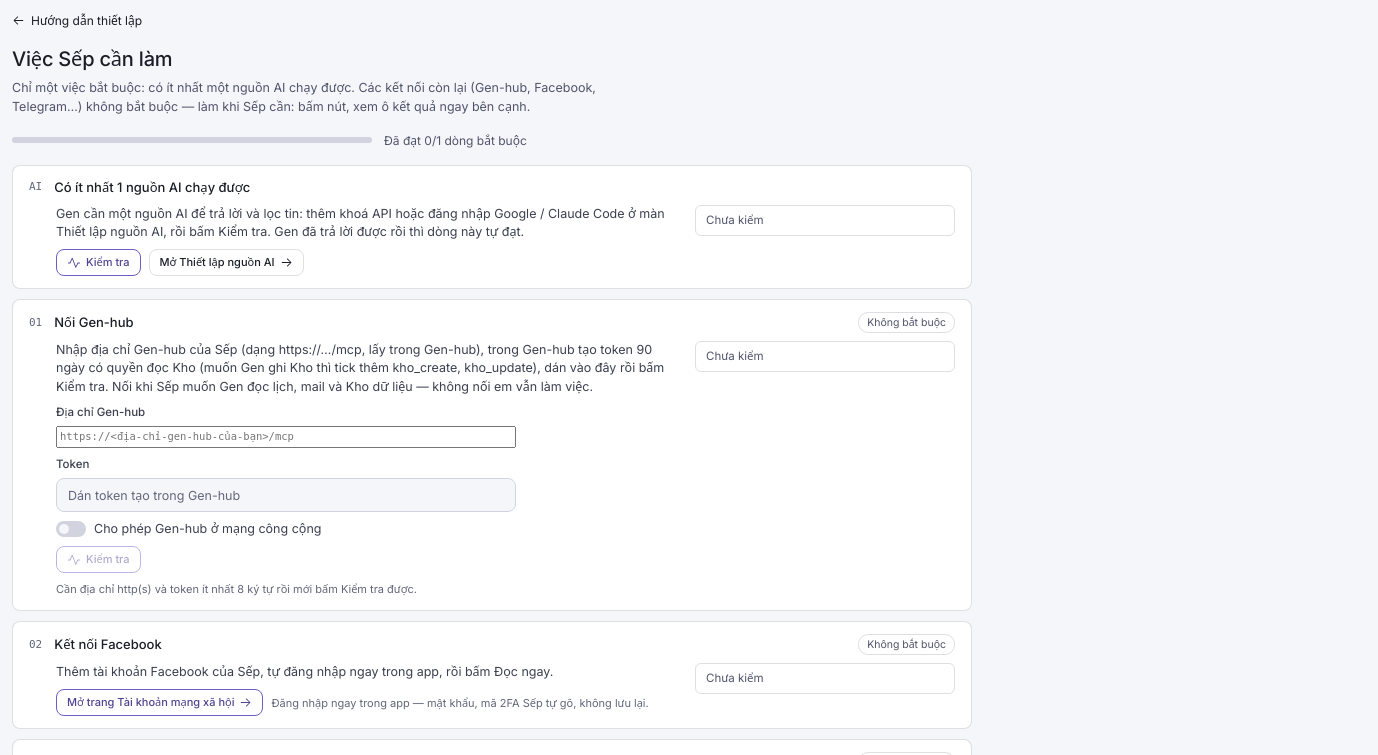
Test case: Việc Sếp cần làm — chỉ dòng "nguồn AI" bắt buộc (x/N động) › lỗi AI_NO_SOURCE ⇒ câu thân thiện + "Chi tiết kỹ thuật" có mã lỗi, không render object
Step 1. Click the button "Kiểm tra" next to "Mở Thiết lập nguồn AI" → click(98, 263), box [56,249,141,276]
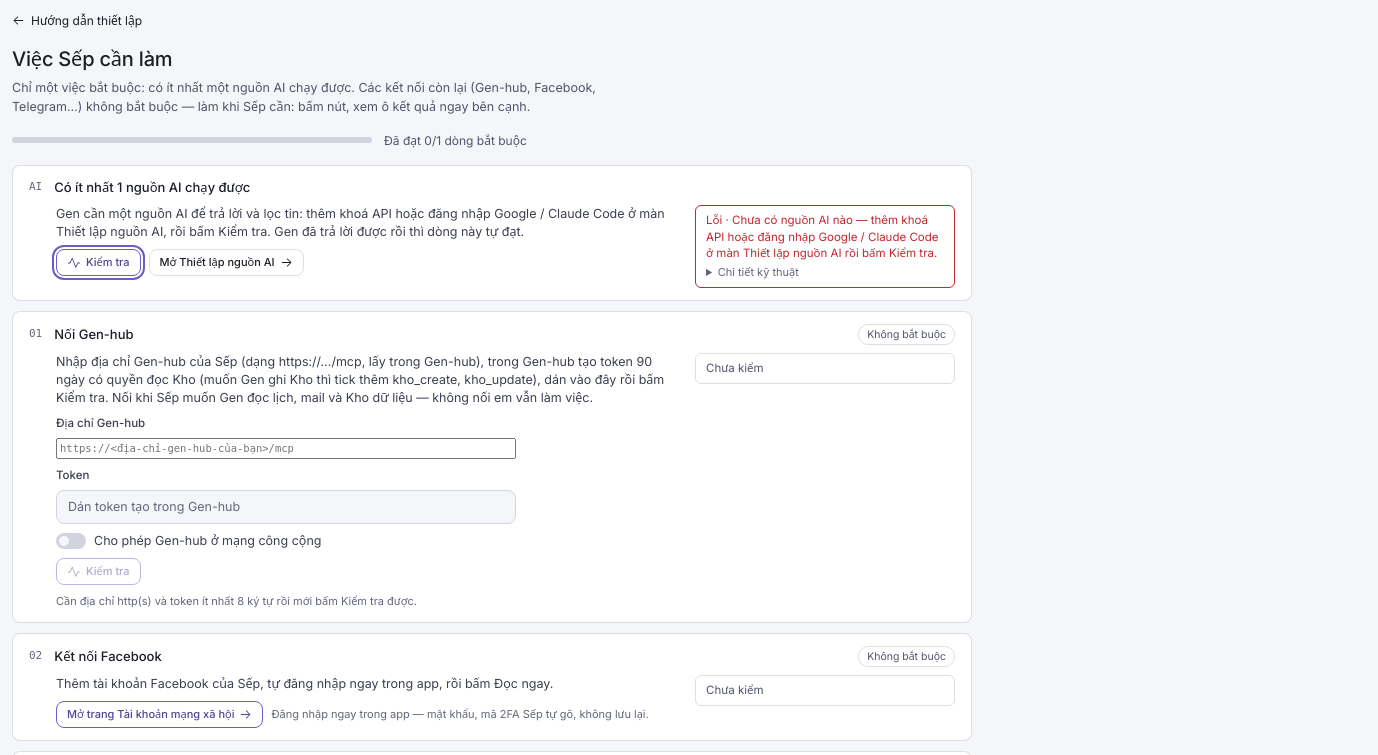
expect the text "Lỗi · Chưa có nguồn AI nào" is shown: met, box [706,213,938,260]
expect the heading "Chi tiết kỹ thuật" is shown: met, box [706,265,799,281]
